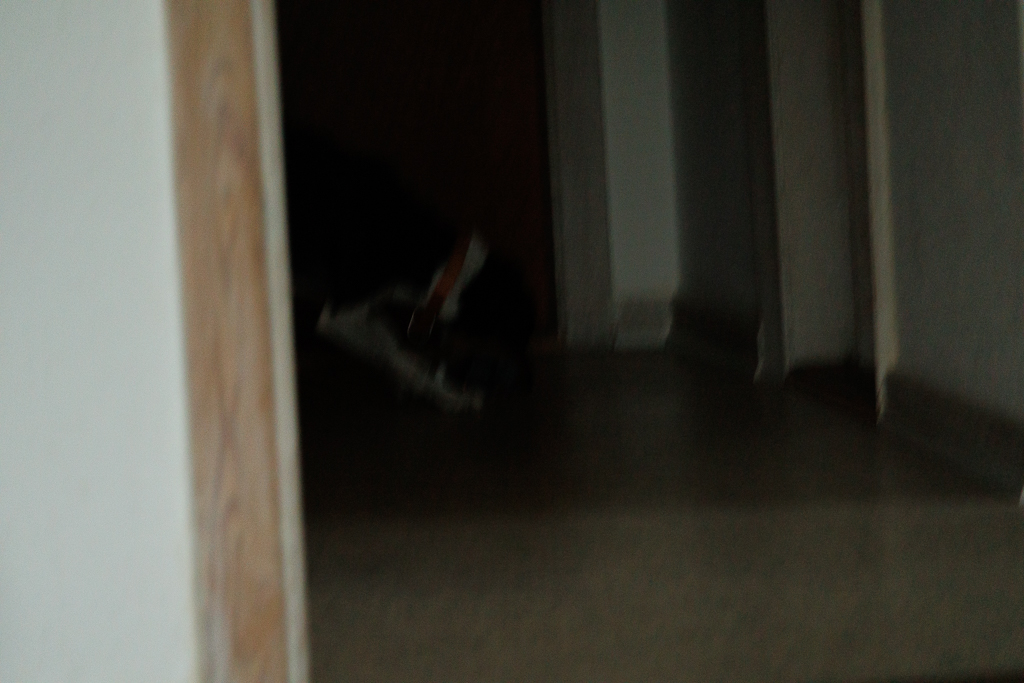Dog: (264, 173, 551, 422)
